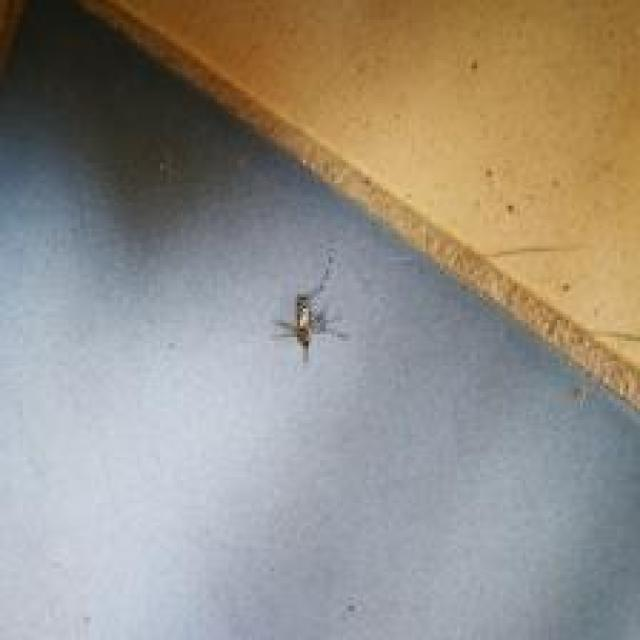Aedes albopictus: (270, 248, 350, 363)
